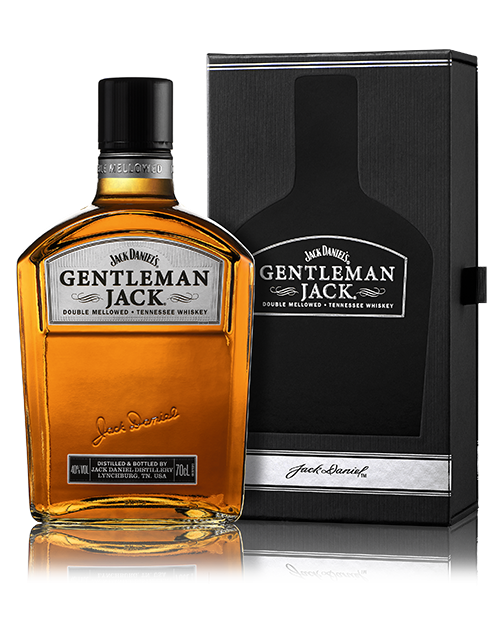jack: (2, 55, 262, 557), (248, 255, 420, 319)
